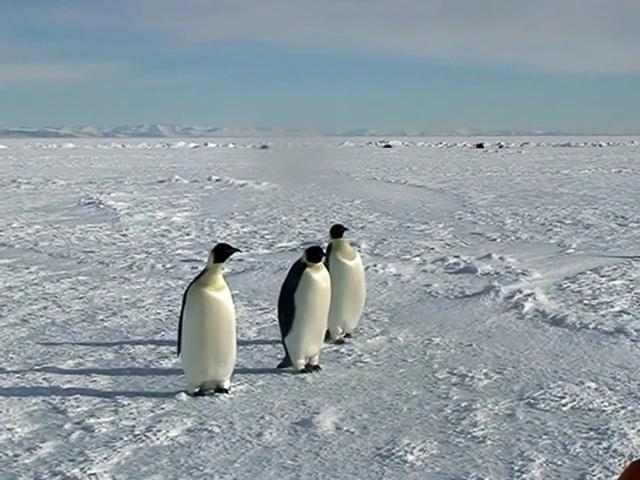animal: (326, 225, 367, 345)
